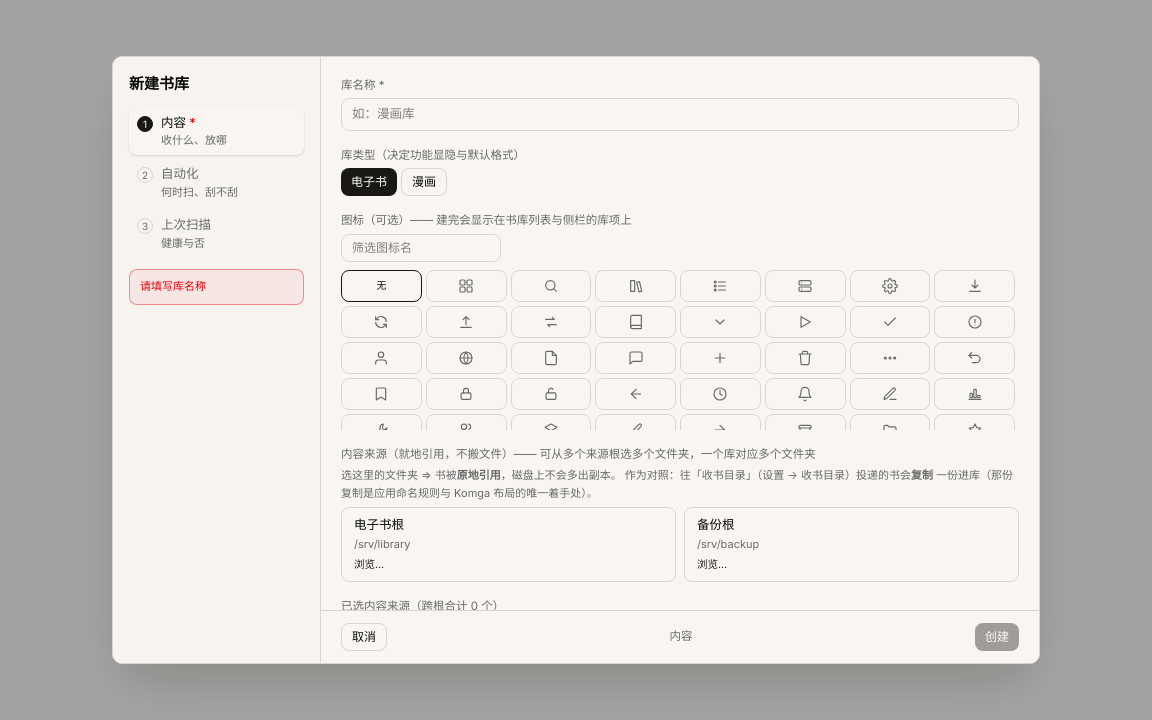
Scenario: 向导 · 必填拦截 › 选好文件夹后「创建」可用
In the field with test id "wizard-name": (680, 115) x1=341 y1=98 x2=1019 y2=131, type "漫画库"
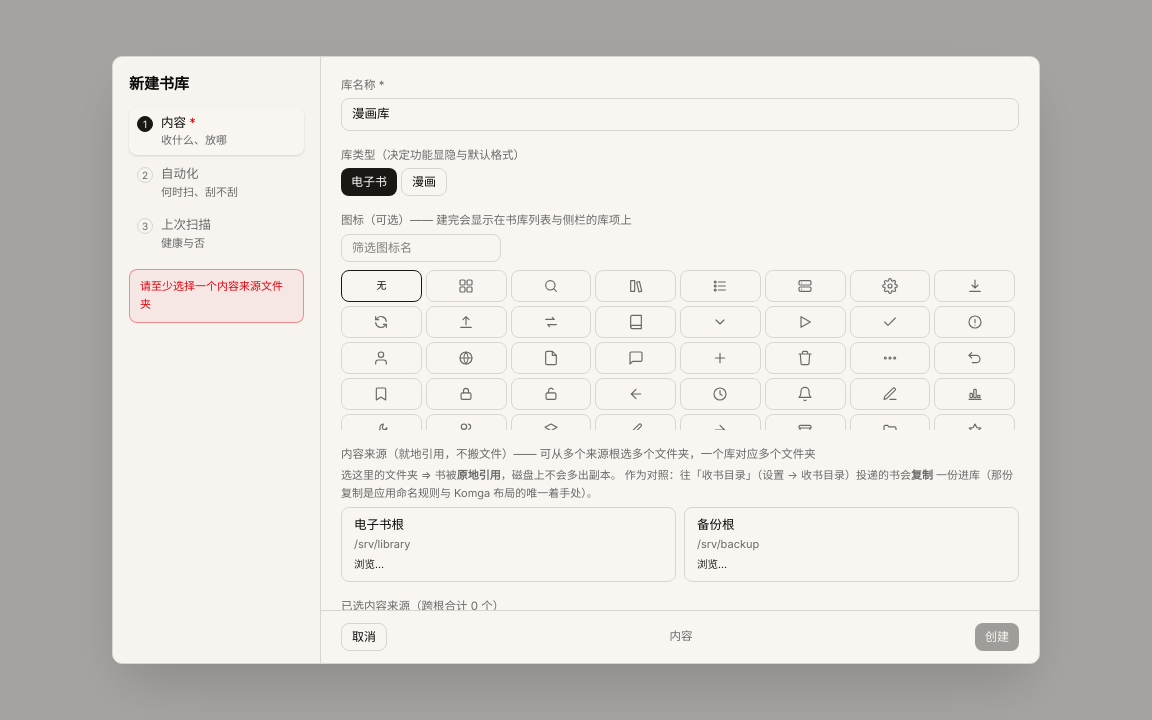
Click the button with test id "wizard-root-card": click(379, 524) x1=341 y1=506 x2=676 y2=582
(page scrolled)
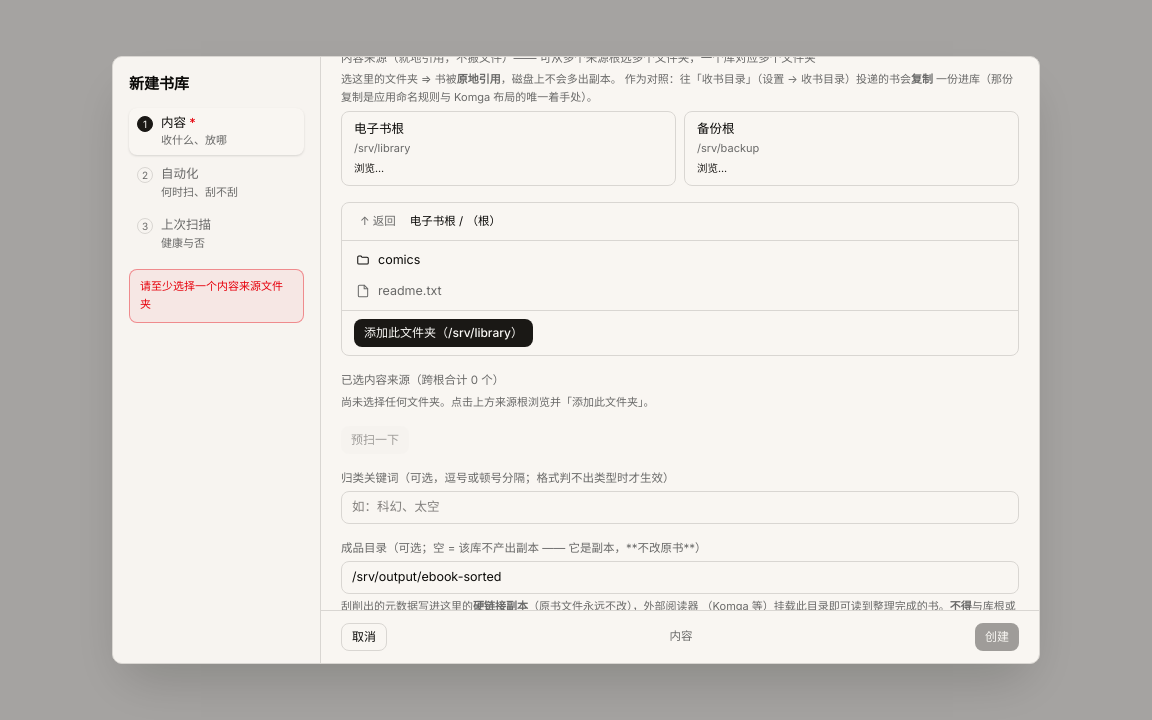
Click the button with test id "wizard-pick-folder": click(444, 333) x1=354 y1=319 x2=533 y2=347
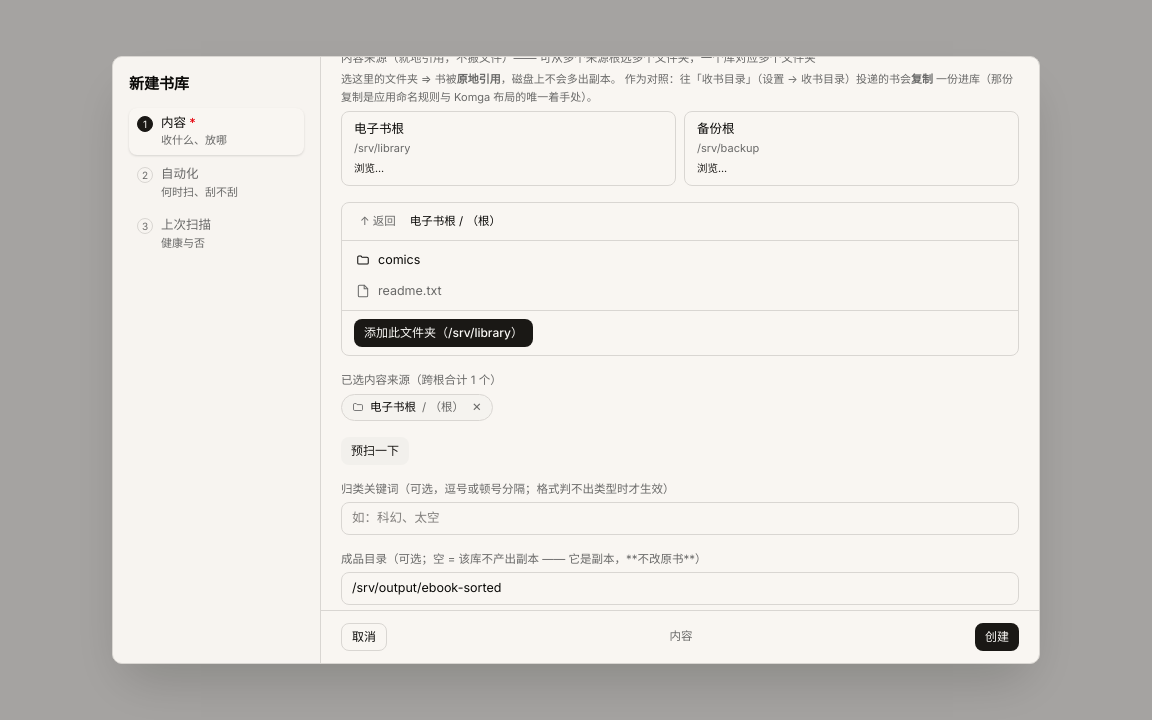
Check: the button with test id "wizard-create" is enabled, box x1=975 y1=623 x2=1019 y2=651
